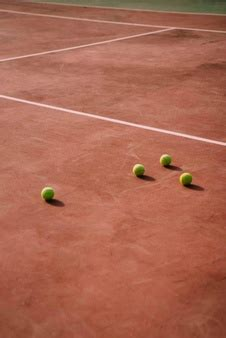tennis_ball: (180, 172, 193, 186), (41, 186, 54, 200), (133, 163, 145, 177), (160, 153, 172, 166)
